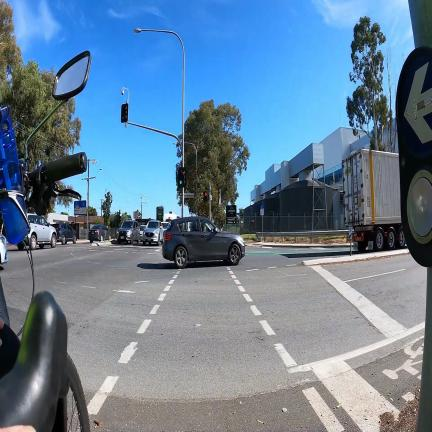Bike_Lane: (346, 332, 424, 409)
